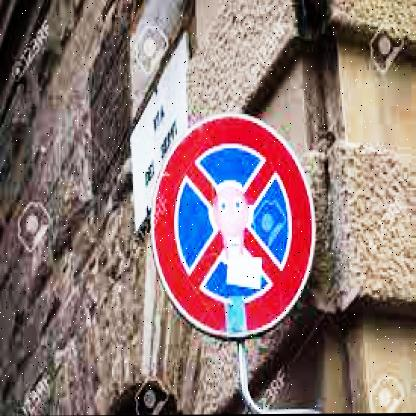No stopping: (149, 115, 318, 342)
